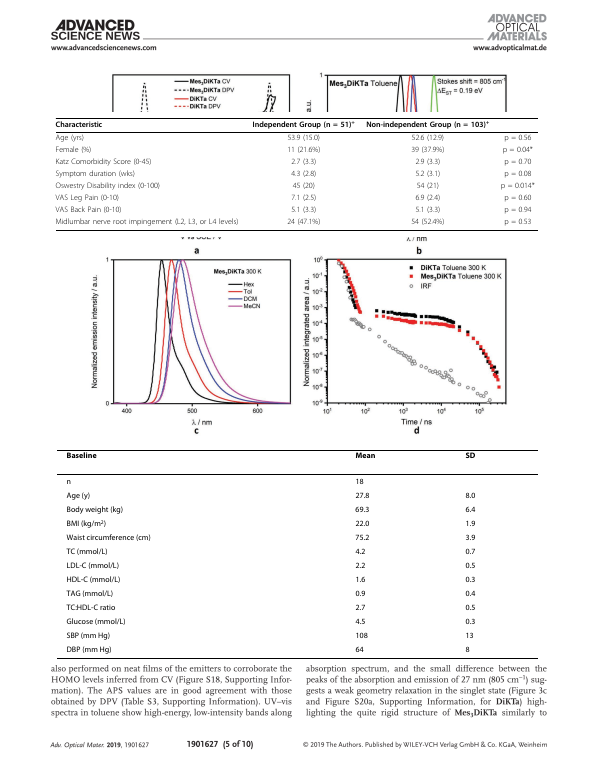borderless: (56, 448, 538, 658), (54, 117, 538, 230)
cell: (55, 218, 239, 227), (365, 119, 490, 130), (252, 119, 356, 130), (55, 182, 161, 192), (55, 158, 152, 168), (66, 533, 152, 543), (55, 170, 136, 180), (66, 617, 127, 627), (55, 206, 122, 215), (55, 194, 120, 203), (66, 505, 124, 515), (66, 575, 121, 585), (66, 561, 120, 571), (66, 603, 116, 613), (66, 589, 114, 599), (66, 645, 112, 655), (66, 631, 111, 641), (55, 121, 103, 130), (66, 547, 108, 557), (66, 519, 107, 529), (55, 146, 92, 156), (500, 182, 536, 192), (286, 134, 321, 144), (286, 146, 321, 156), (410, 146, 445, 156), (411, 134, 445, 144), (502, 146, 534, 156), (286, 218, 321, 227), (410, 218, 445, 227), (55, 134, 85, 144), (503, 134, 532, 144), (503, 158, 532, 168), (503, 170, 532, 180), (290, 158, 317, 168), (414, 158, 441, 168), (290, 170, 317, 180), (414, 170, 441, 180), (503, 194, 532, 203), (503, 206, 532, 215), (503, 218, 532, 227), (66, 451, 98, 459), (66, 491, 91, 501), (290, 194, 317, 203), (414, 194, 441, 203), (290, 206, 317, 215), (414, 206, 441, 215), (292, 182, 316, 192), (416, 182, 440, 192), (354, 451, 376, 459), (354, 491, 370, 501), (354, 505, 370, 515), (354, 519, 370, 529), (354, 533, 370, 543), (354, 631, 369, 641), (464, 491, 476, 501), (464, 505, 476, 515), (464, 519, 476, 529), (464, 533, 476, 543), (354, 547, 366, 557), (464, 547, 476, 557), (354, 561, 366, 571), (464, 561, 476, 571), (354, 575, 366, 585), (464, 575, 476, 585), (354, 589, 366, 599), (464, 589, 476, 599), (354, 603, 366, 613), (464, 603, 476, 613), (354, 617, 366, 627), (354, 477, 365, 487), (465, 617, 476, 627), (464, 631, 475, 641), (354, 645, 365, 655), (464, 451, 476, 459), (464, 645, 471, 655), (66, 477, 72, 487)
